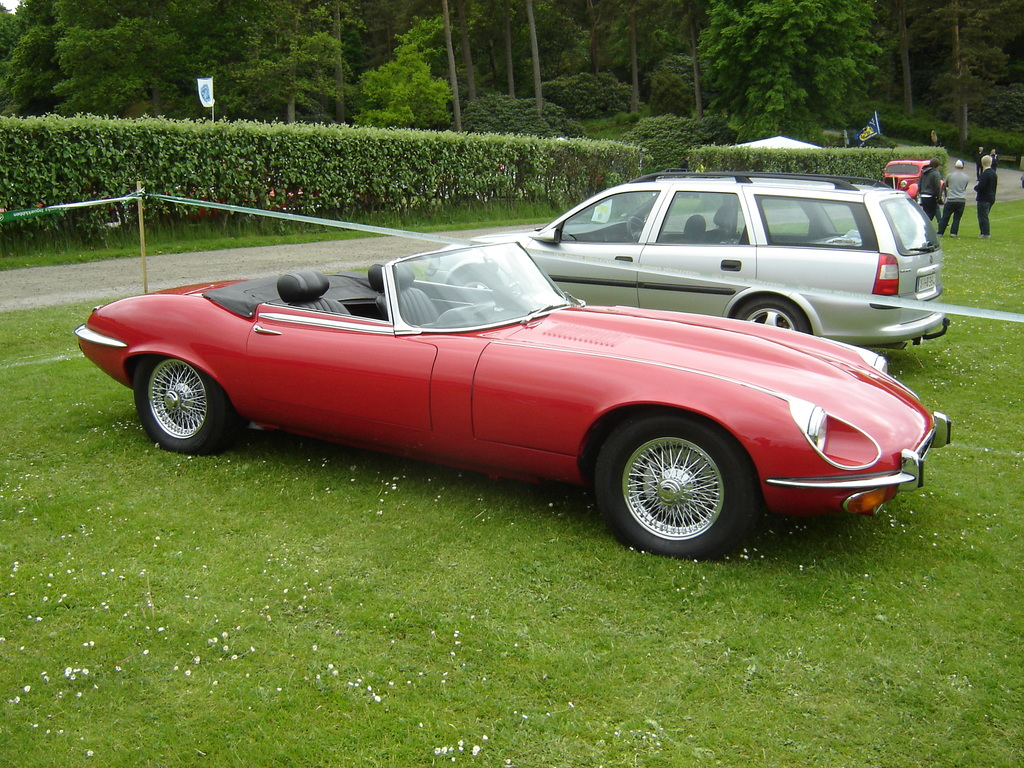mobil: (99, 215, 918, 611), (539, 168, 946, 362)
